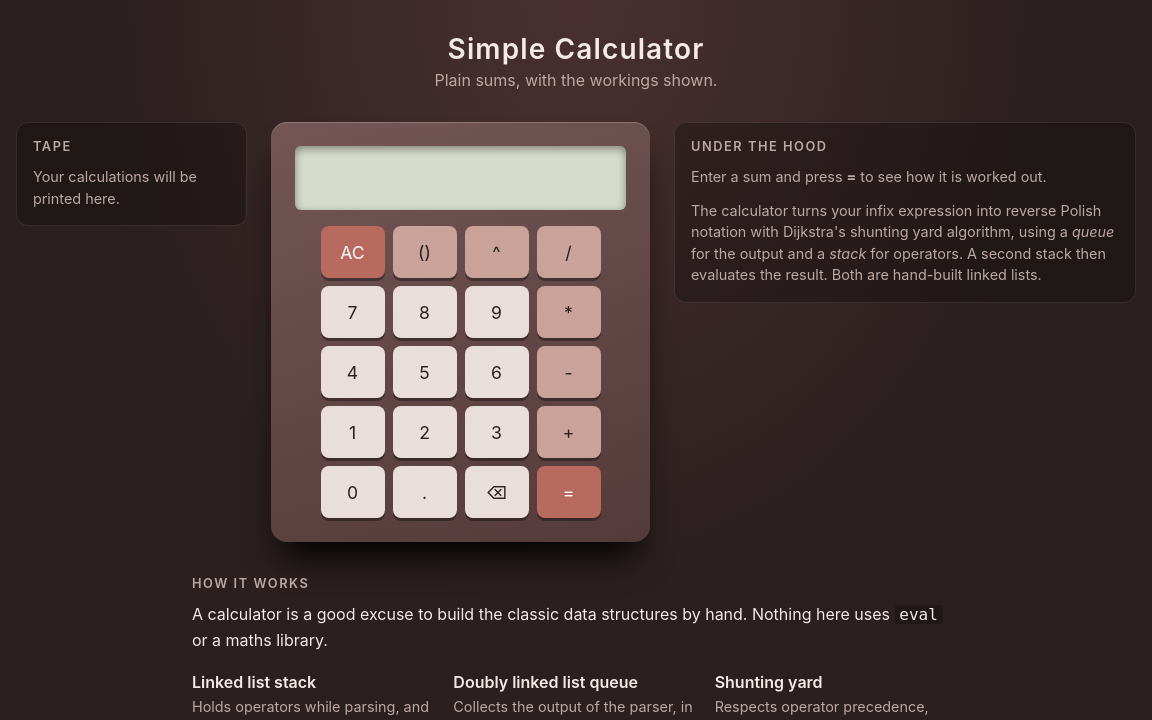
Test: backspace removes the final character
The image size is (1152, 720).
Click the button "1" at (352, 432), box [320, 406, 384, 458]
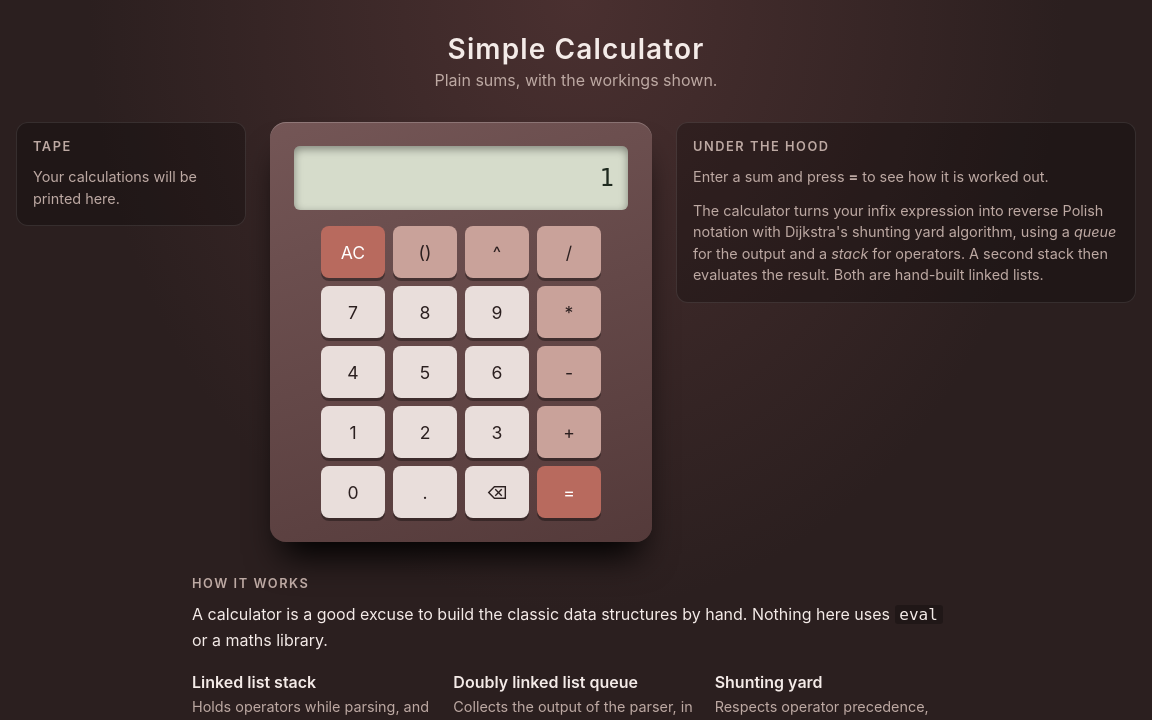
Click the button "2" at (425, 432), box [393, 406, 457, 458]
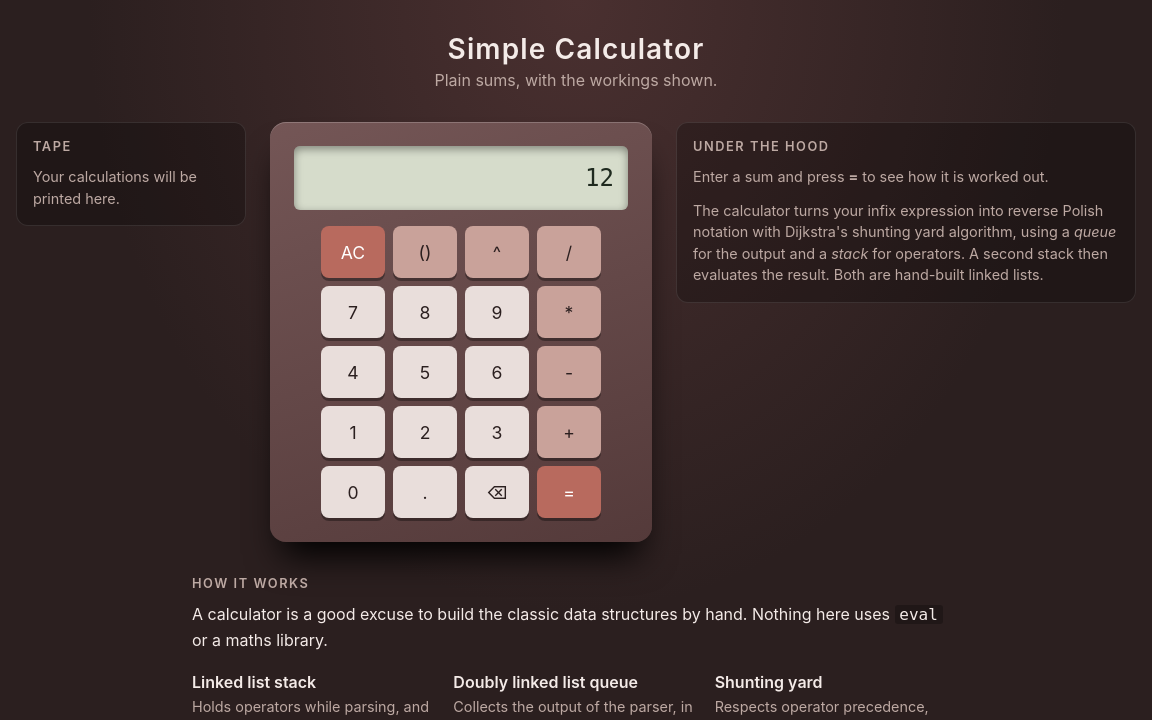
Click the button "⌫" at (497, 492), box [465, 466, 529, 518]
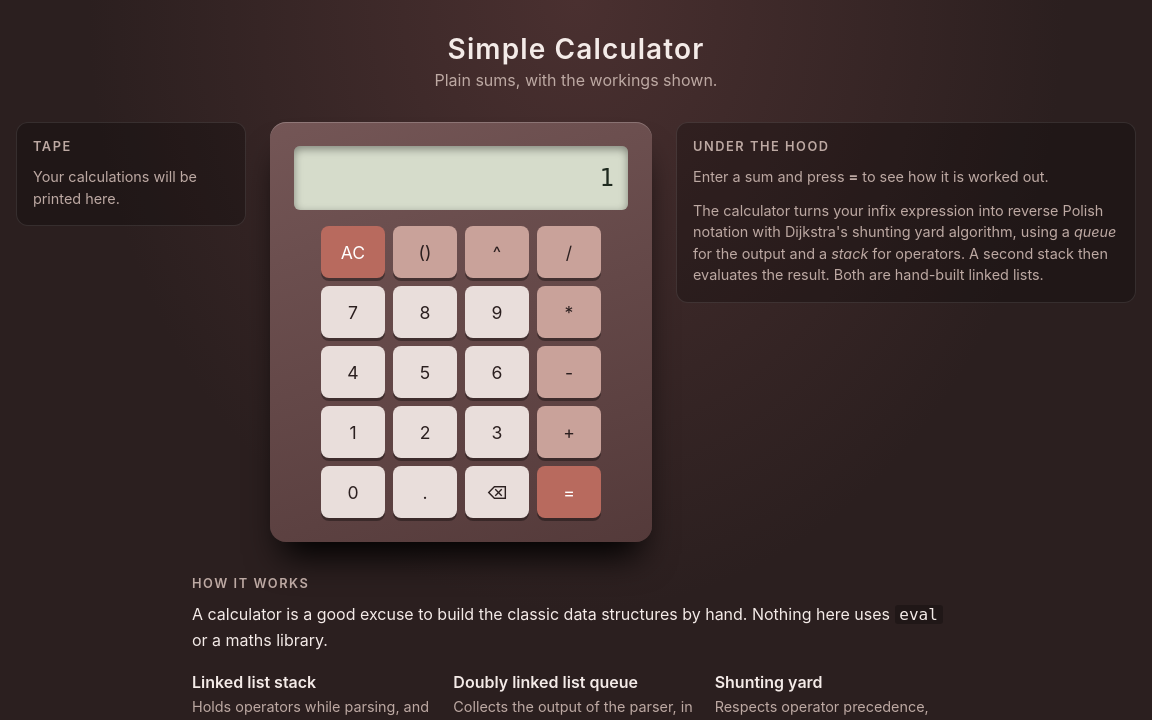
Now the field with id "display" holds "1", box [294, 146, 628, 210]
